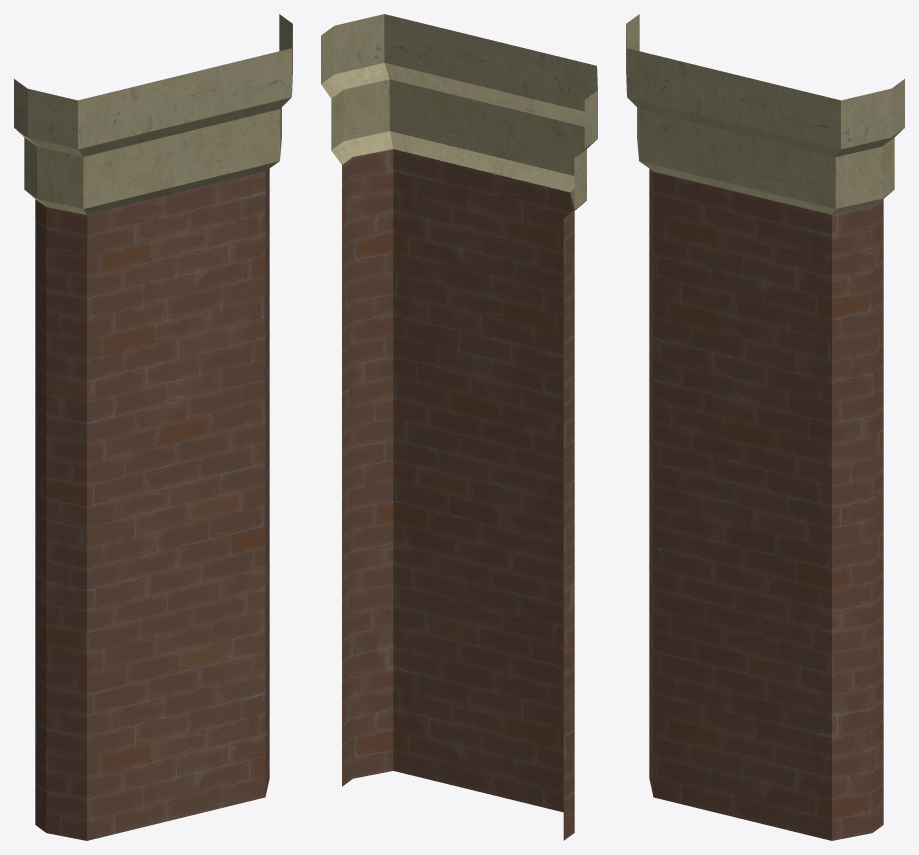
Rendered from Brick_HalfColumn_Top.glb.
The picture shows the model from 3 angles, left to right: view 1: azimuth 30°, elevation 25°; view 2: azimuth 150°, elevation 25°; view 3: azimuth 330°, elevation 25°; orthographic projection.
Visible parts, largest first — view 1: Brick_HalfColumn_Top; view 2: Brick_HalfColumn_Top; view 3: Brick_HalfColumn_Top.
Boxes of the visible parts, box(x1,y1,x2,y2) form: Brick_HalfColumn_Top: box(14, 14, 292, 840); Brick_HalfColumn_Top: box(321, 14, 597, 840); Brick_HalfColumn_Top: box(626, 14, 904, 840).
Bounding box in the file's own units: 1.11 × 3 × 0.2763.
2 materials, 2 textured.
